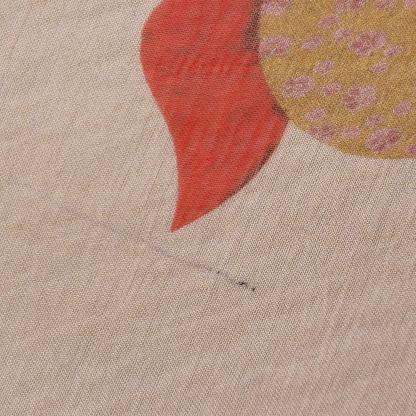spot: (84, 207, 264, 294), (203, 135, 283, 215), (238, 0, 266, 55), (265, 100, 298, 123)
